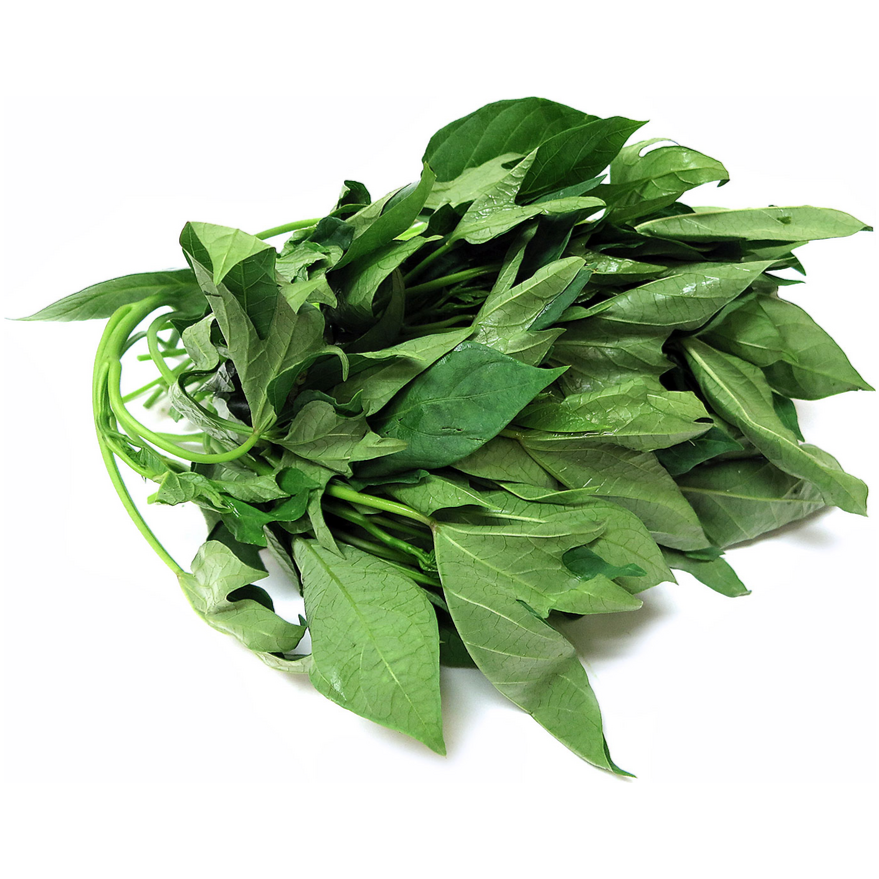Kangkung: (94, 126, 768, 684)
